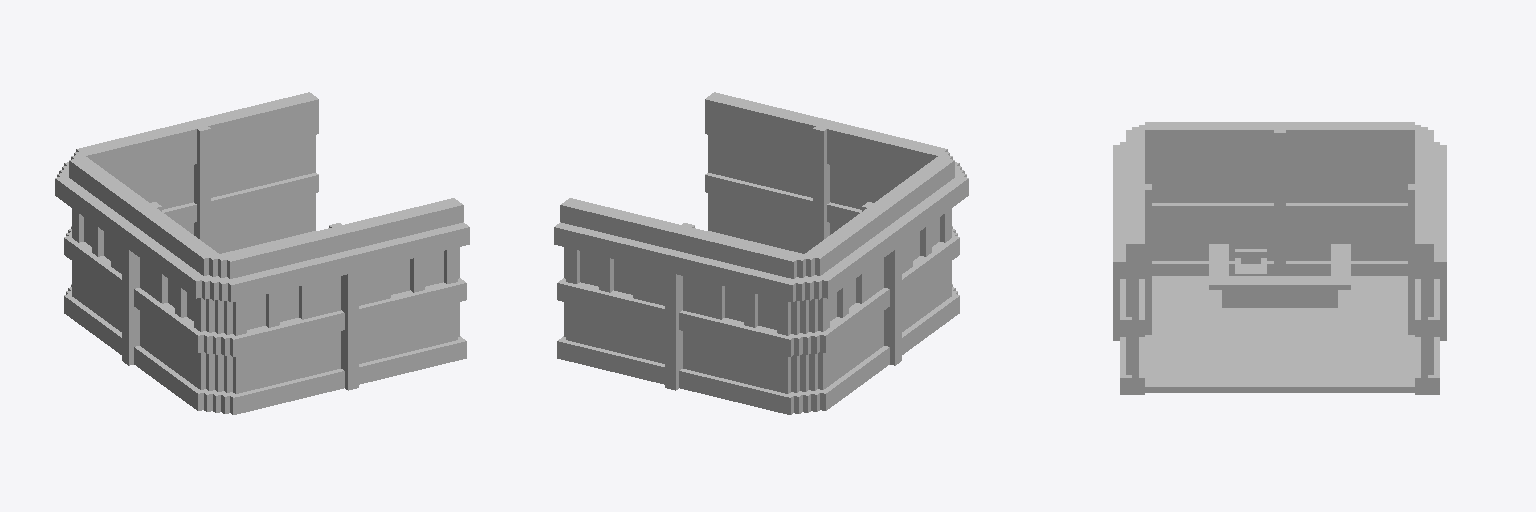
The model's file is PokeCenter_Interior.obj.
3 renders of one model, left to right at view 1: azimuth 30°, elevation 25°; view 2: azimuth 150°, elevation 25°; view 3: azimuth 270°, elevation 25°, orthographic.
Parts seen in each view (by area): view 1: PokeCenter_Interior; view 2: PokeCenter_Interior; view 3: PokeCenter_Interior.
Part boxes in pixels (x1,y1,x2,y2): PokeCenter_Interior: (55, 92, 469, 414); PokeCenter_Interior: (554, 92, 968, 414); PokeCenter_Interior: (1113, 122, 1446, 394).
Bounding box in the file's own units: 47 × 26 × 52.